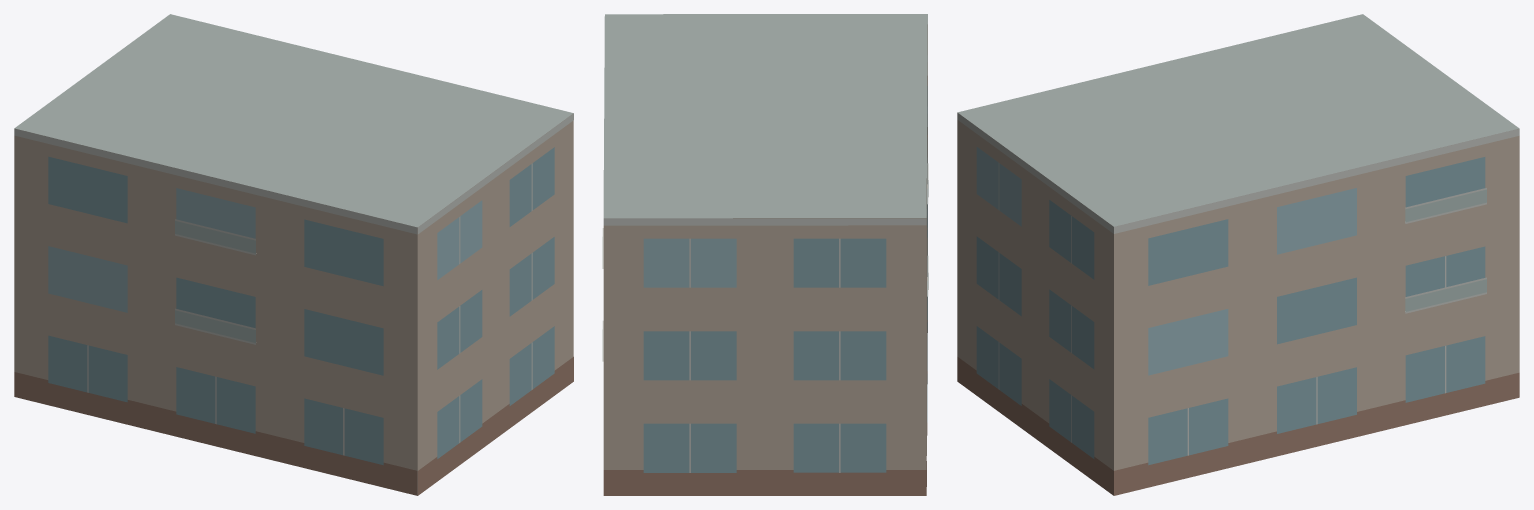
File: survey-upis-32705835.glb
3 renders of one model, left to right at view 1: azimuth 30°, elevation 25°; view 2: azimuth 150°, elevation 25°; view 3: azimuth 270°, elevation 25°, orthographic. The views are drawn at different scales.
Parts seen in each view (by area): view 1: survey-upis-32705835.tmp; view 2: survey-upis-32705835.tmp; view 3: survey-upis-32705835.tmp.
Part boxes in pixels (x1,y1,x2,y2): survey-upis-32705835.tmp: (14, 14, 573, 495); survey-upis-32705835.tmp: (602, 14, 928, 495); survey-upis-32705835.tmp: (957, 14, 1519, 495).
Size of the model in its own units: 15.53 by 9.15 by 17.34.
